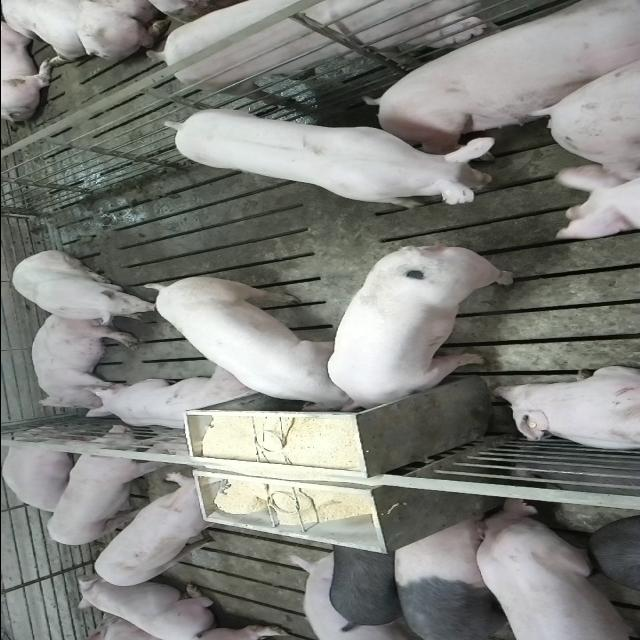Feeding: (326, 248, 518, 420), (140, 274, 358, 410)
Lateral_lying: (364, 0, 640, 142), (29, 312, 138, 411)
Sitting: (7, 250, 156, 324)
Standing: (150, 0, 516, 105), (155, 108, 499, 210), (468, 499, 640, 638), (92, 473, 234, 588), (390, 515, 520, 638), (44, 425, 162, 548), (324, 528, 413, 630)
Sternal_lying: (490, 365, 640, 453), (84, 368, 262, 433), (72, 578, 222, 638), (2, 432, 84, 514)
